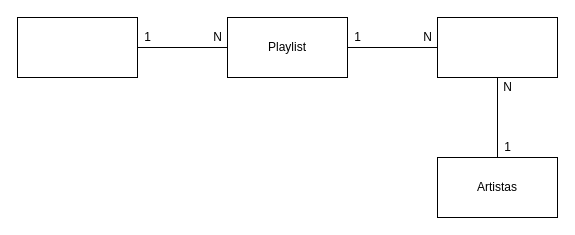
This 575x235 diagram has some shape labels left out. The centre of each missing label's shape, as x and y in pixels:
"Album" belongs at point 497,47.
"Usuario" belongs at point 77,47.
